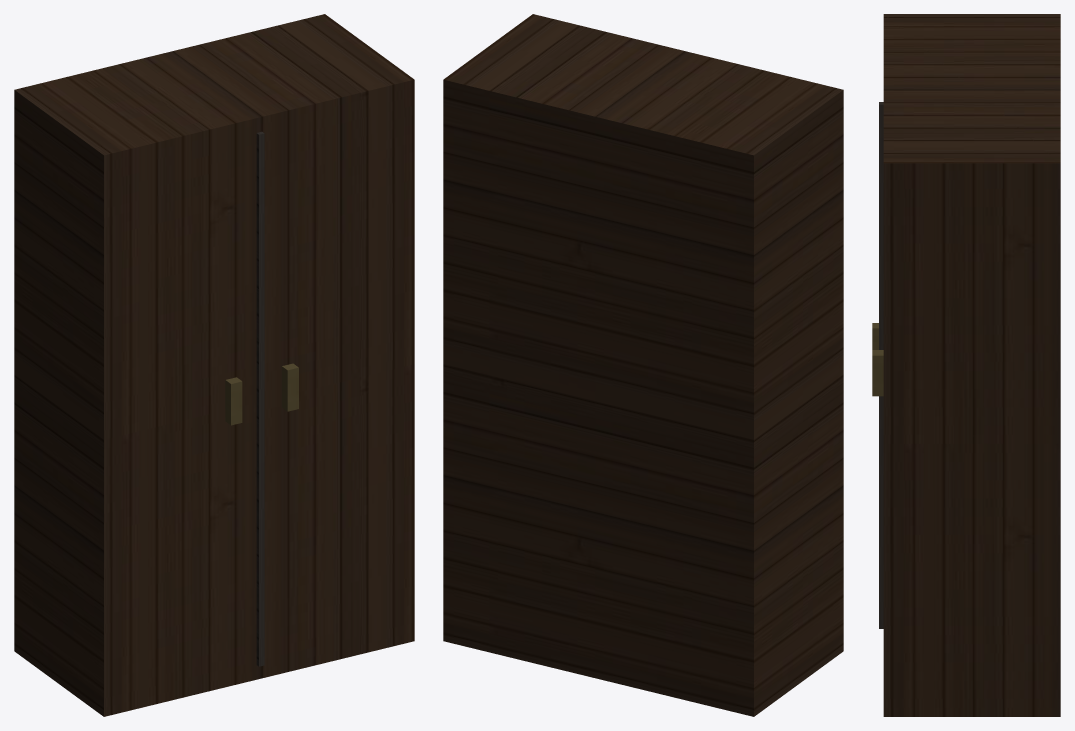
Rendered from wardrobe_01.glb.
3 renders of one model, left to right at view 1: azimuth 30°, elevation 25°; view 2: azimuth 150°, elevation 25°; view 3: azimuth 270°, elevation 25°, orthographic.
Visible parts, largest first — view 1: wardrobe_01; view 2: wardrobe_01; view 3: wardrobe_01.
Boxes of the visible parts, x1,y1,x2,y2 form: wardrobe_01: (14,14,414,716); wardrobe_01: (443,14,843,716); wardrobe_01: (872,14,1060,716).
Bounding box in the file's own units: 1.1 × 1.9 × 0.585.
Materials: 3 (3 with a texture image).
